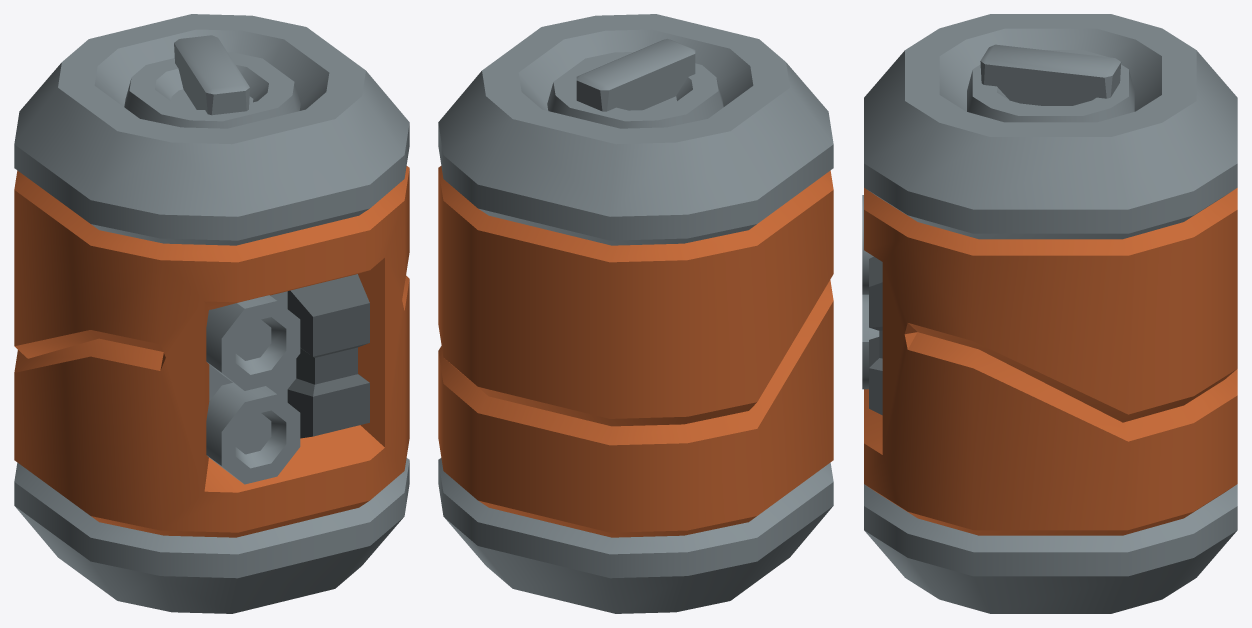
The model's file is fuel_canisterA.gltf.glb.
3 renders of one model, left to right at view 1: azimuth 30°, elevation 25°; view 2: azimuth 150°, elevation 25°; view 3: azimuth 270°, elevation 25°, orthographic.
Parts seen in each view (by area): view 1: fuel_canisterA; view 2: fuel_canisterA; view 3: fuel_canisterA.
Boxes of the visible parts, bbox=[...] form: fuel_canisterA: bbox=[14, 14, 409, 613]; fuel_canisterA: bbox=[438, 14, 833, 613]; fuel_canisterA: bbox=[862, 14, 1237, 613].
Bounding box in the file's own units: 0.7837 × 1.14 × 0.7872.
